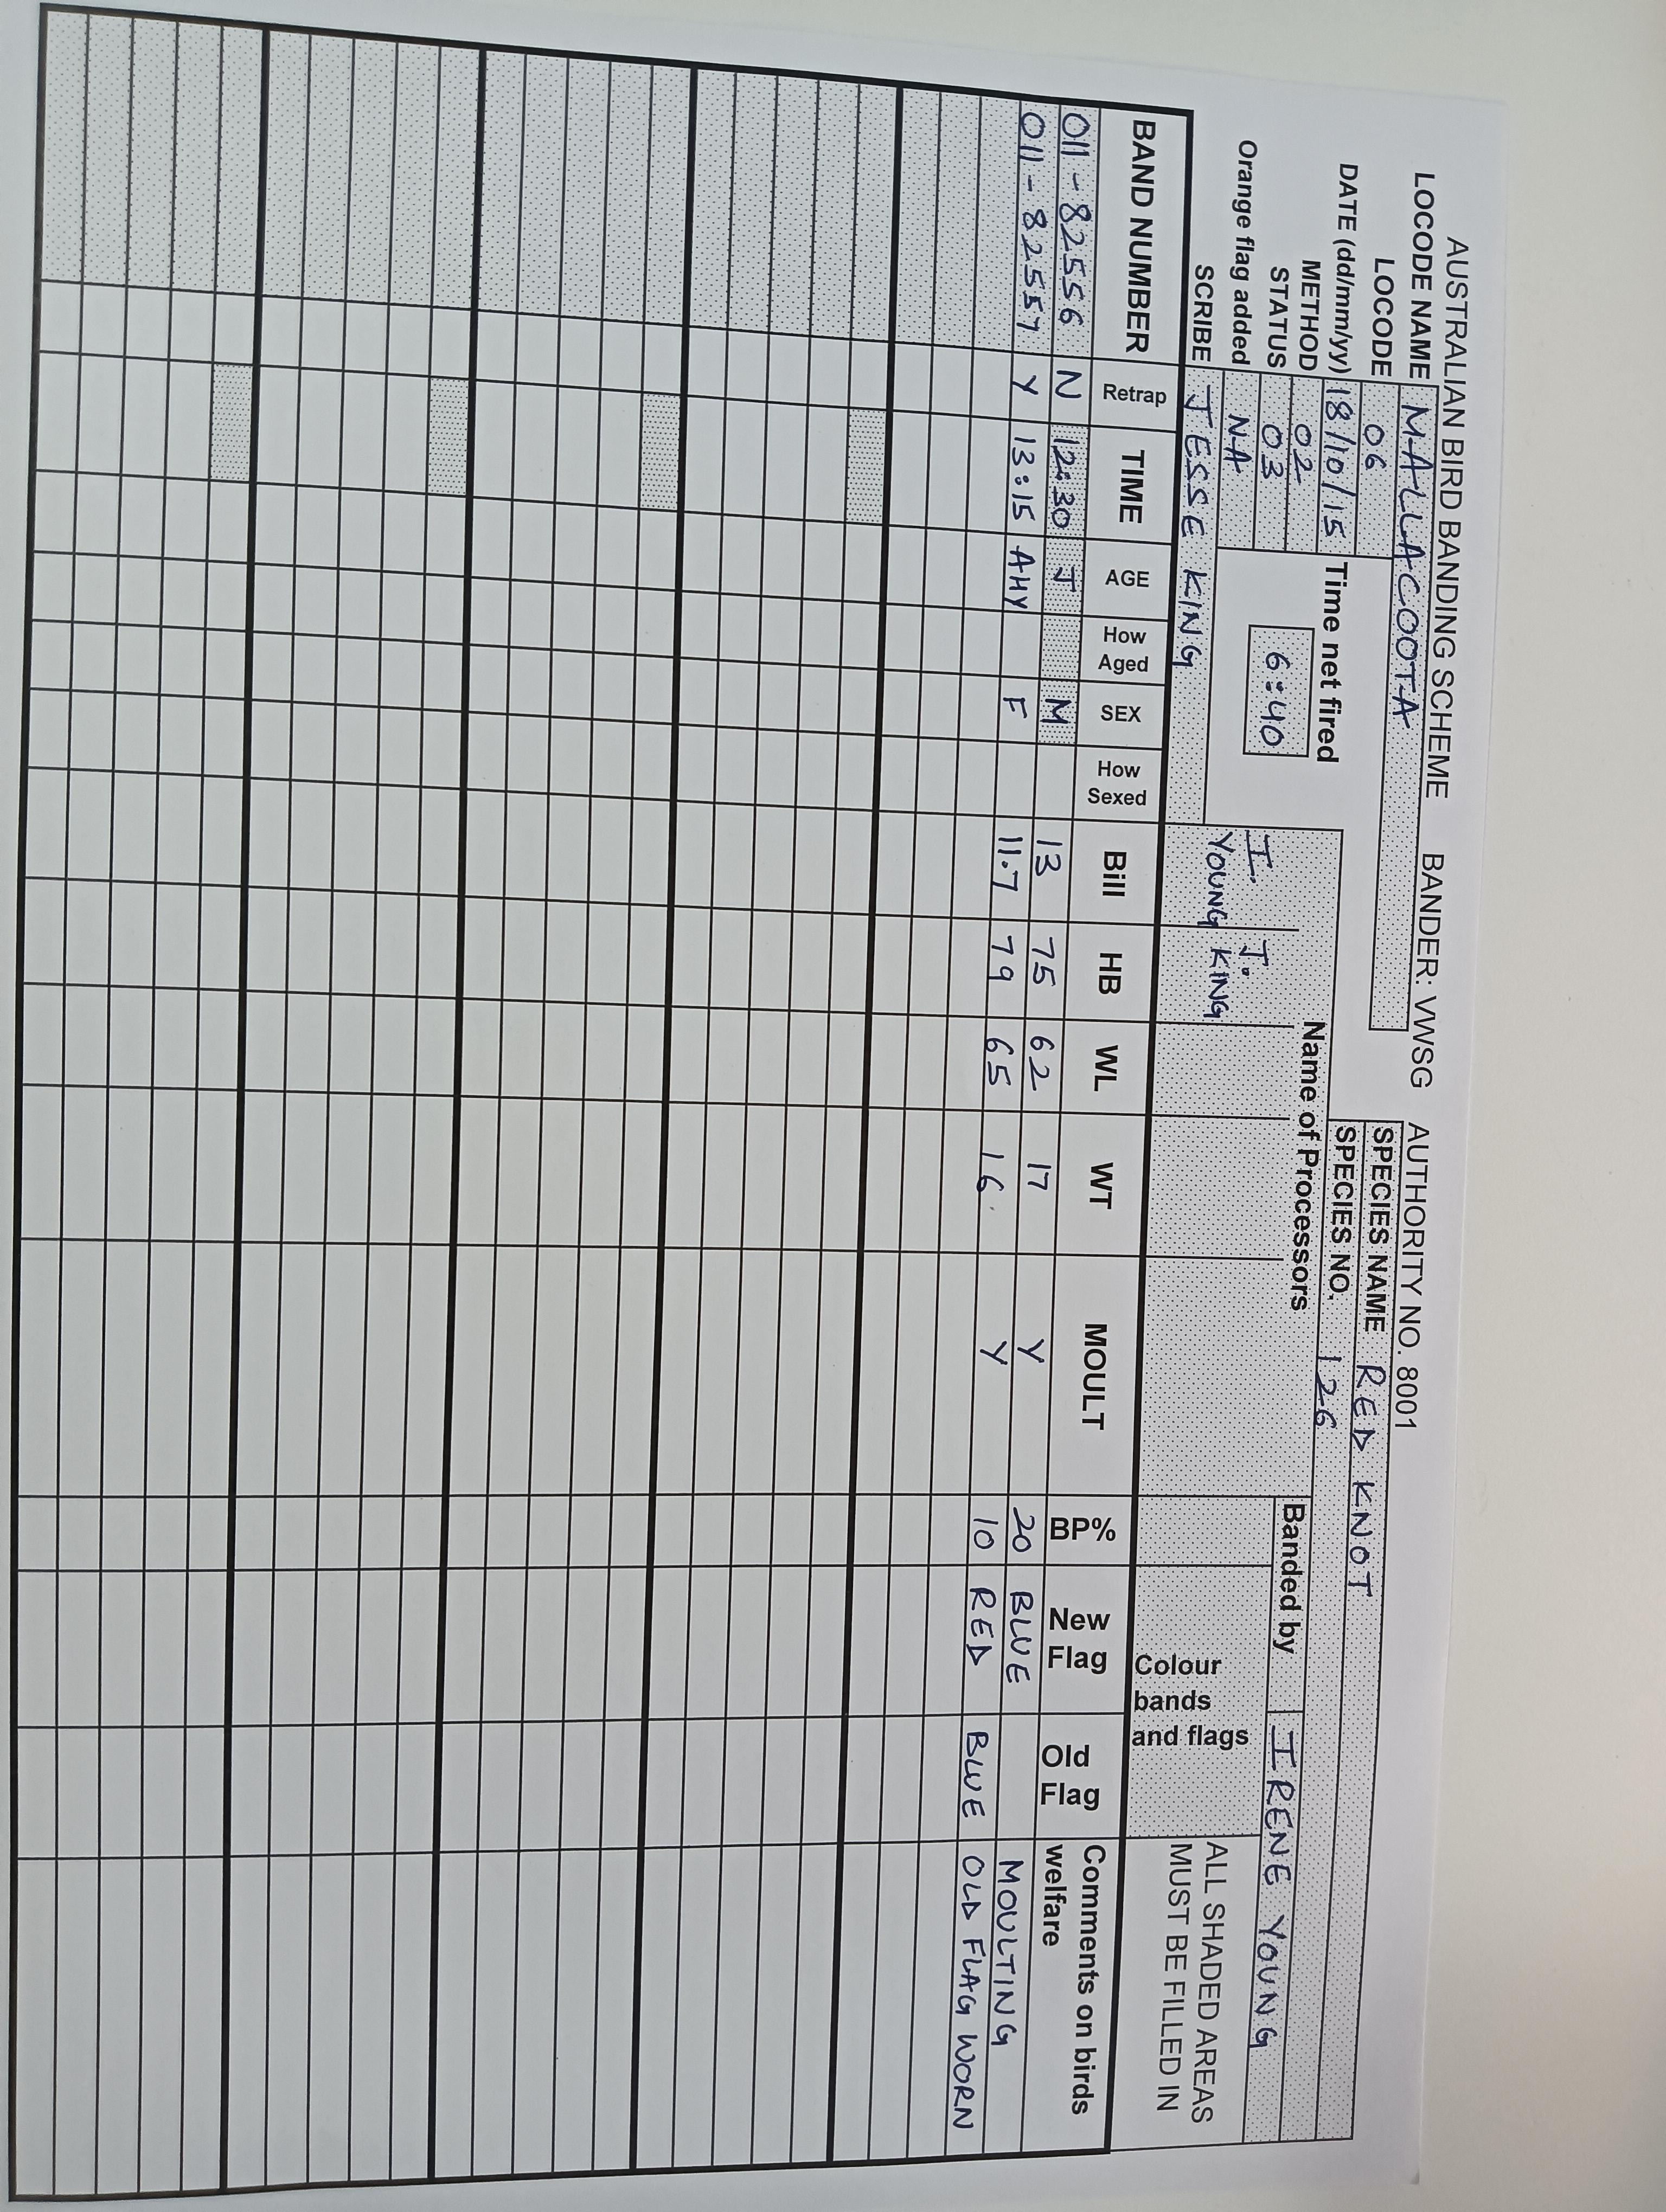BANDED_BY: (1242, 1495, 1314, 2142)
DATA: (984, 103, 1101, 2161), (947, 96, 1059, 2158)
DATE: (1318, 150, 1374, 554)
LOCOCODE: (1356, 240, 1407, 560)
LOCOCODE_NAME: (1369, 161, 1453, 1030)
METHOD: (1285, 247, 1333, 553)
NAME_OF_PROCESSORS: (1166, 825, 1309, 932), (1176, 927, 1304, 1025)
ORANGE_FLAG_ADDED: (1215, 121, 1265, 549)
SCRIBE: (1162, 241, 1230, 822)
SPECIES_NAME: (1316, 1121, 1403, 2137)
SPECIES_NO: (1279, 1119, 1365, 2140)
STATUS: (1260, 250, 1300, 558)
TIME_NET_FIRED: (1230, 556, 1363, 811)
